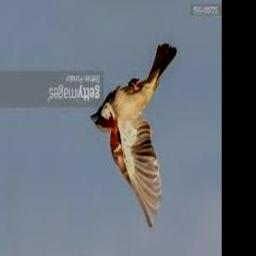Sparrow: (91, 44, 178, 228)
